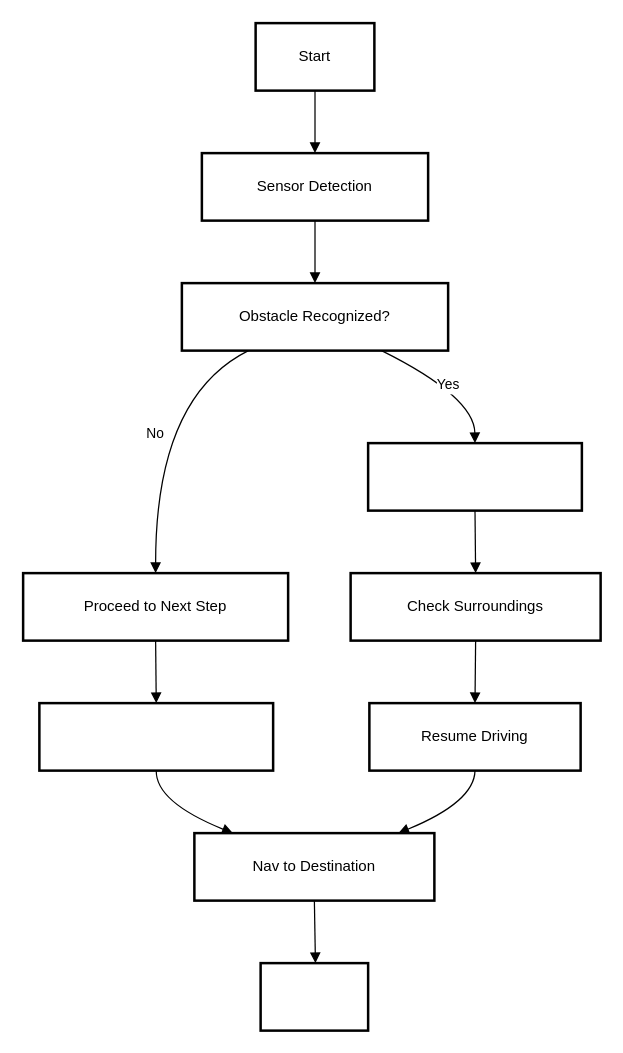
Some shapes in this 623 by 1053 pixel diagram are drawn without their labels. The shapes that lost their labels are listed below. From the top down, each one's centre as x and y in pixels, then its label:
the point at 474,476: Activate Brakes
the point at 156,736: Route Calculation
the point at 314,996: End
